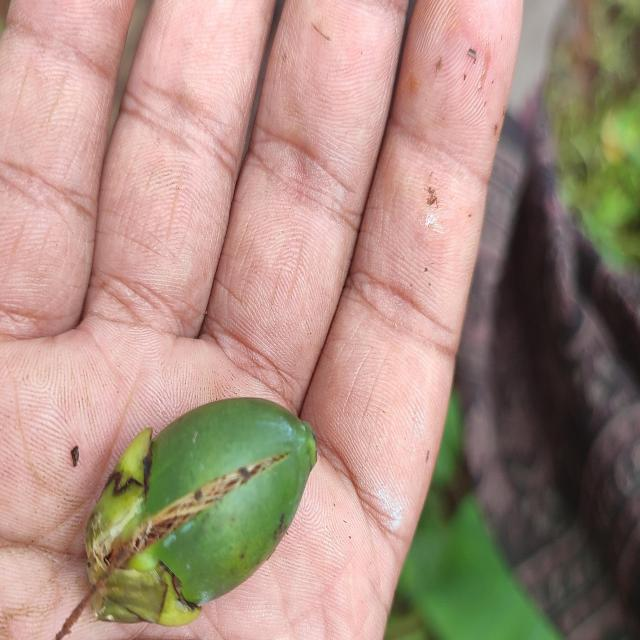damaged: (84, 398, 319, 628)
